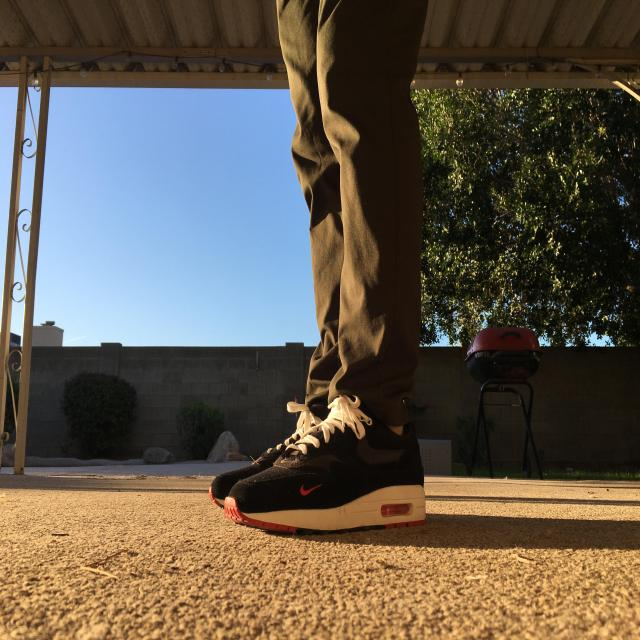shoe: (202, 381, 437, 540)
